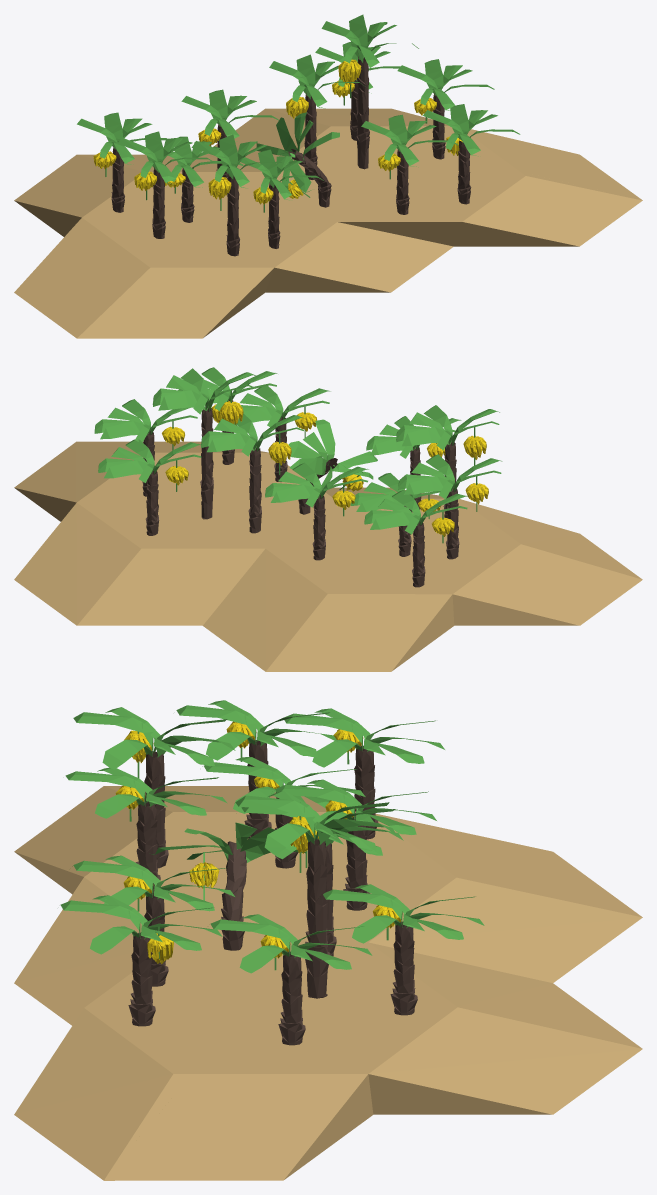
Rendered from insel5.fbx.
3 views of the same model, one above another, from view 1: azimuth 30°, elevation 25°; view 2: azimuth 150°, elevation 25°; view 3: azimuth 270°, elevation 25° (orthographic). The views are drawn at different scales.
Parts seen in each view (by area): view 1: Landschaft, Blätter_22, Blätter_20, Blätter_10, Blätter_6, Blätter_26, Blätter_14, Blätter_4, Blätter_24, Blätter_8, Blätter_16, Blätter (+13 smaller); view 2: Landschaft, Blätter_22, Blätter_20, Blätter_14, Blätter_6, Blätter_18, Blätter_8, Blätter_16, Blätter_4, Blätter_10, Blätter_24, Blätter_12 (+8 smaller); view 3: Landschaft, Blätter_20, Blätter_14, Stamm_20, Blätter_6, Blätter_10, Blätter_26, Blätter_18, Blätter_16, Blätter_24, Blätter, Blätter_8 (+14 smaller).
Boxes of the visible parts, bbox=[...] form: Landschaft: bbox=[14, 108, 642, 338]; Blätter_22: bbox=[256, 112, 339, 192]; Blätter_20: bbox=[321, 14, 418, 69]; Blätter_10: bbox=[397, 59, 494, 111]; Blätter_6: bbox=[117, 131, 214, 184]; Blätter_26: bbox=[423, 104, 520, 156]; Blätter_14: bbox=[191, 134, 287, 188]; Blätter_4: bbox=[269, 54, 365, 108]; Blätter_24: bbox=[361, 114, 458, 167]; Blätter_8: bbox=[181, 89, 278, 141]; Blätter_16: bbox=[77, 112, 167, 164]; Blätter: bbox=[240, 149, 323, 200]; Landschaft: bbox=[14, 441, 642, 671]; Blätter_22: bbox=[288, 419, 377, 490]; Blätter_20: bbox=[152, 368, 256, 414]; Blätter_14: bbox=[396, 405, 499, 450]; Blätter_6: bbox=[398, 454, 502, 499]; Blätter_18: bbox=[98, 439, 201, 482]; Blätter_8: bbox=[265, 463, 368, 507]; Blätter_16: bbox=[364, 490, 467, 534]; Blätter_4: bbox=[201, 413, 304, 456]; Blätter_10: bbox=[94, 399, 197, 442]; Blätter_24: bbox=[234, 384, 330, 426]; Blätter_12: bbox=[350, 473, 446, 511]; Landschaft: bbox=[14, 786, 642, 1180]; Blätter_20: bbox=[235, 790, 397, 855]; Blätter_14: bbox=[73, 707, 235, 769]; Stamm_20: bbox=[305, 838, 330, 998]; Blätter_6: bbox=[176, 700, 338, 760]; Blätter_10: bbox=[210, 914, 372, 973]; Blätter_26: bbox=[60, 895, 222, 954]; Blätter_18: bbox=[323, 884, 484, 943]; Blätter_16: bbox=[284, 708, 444, 767]; Blätter_24: bbox=[72, 855, 234, 911]; Blätter: bbox=[65, 767, 227, 818]; Blätter_8: bbox=[275, 779, 436, 834].
Bounding box in the file's own units: 9116 × 2502 × 6136.
Materials: 4 (3 with a texture image).
